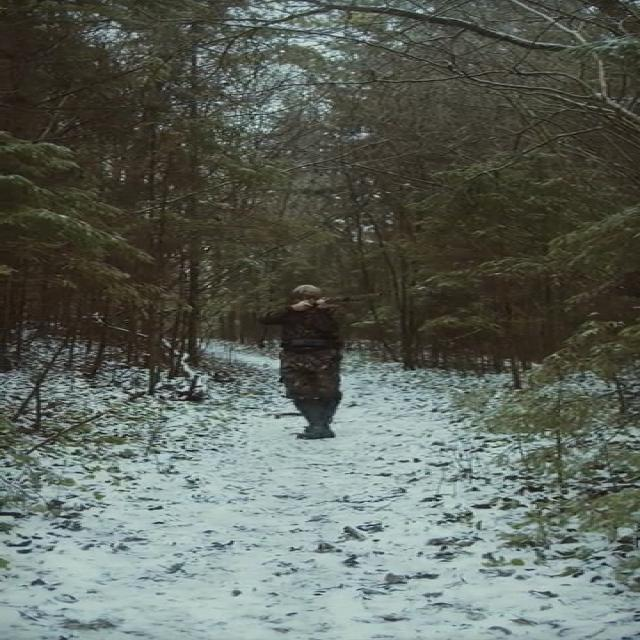Gun_Holder: (291, 296, 386, 309)
Person: (264, 285, 352, 438)
